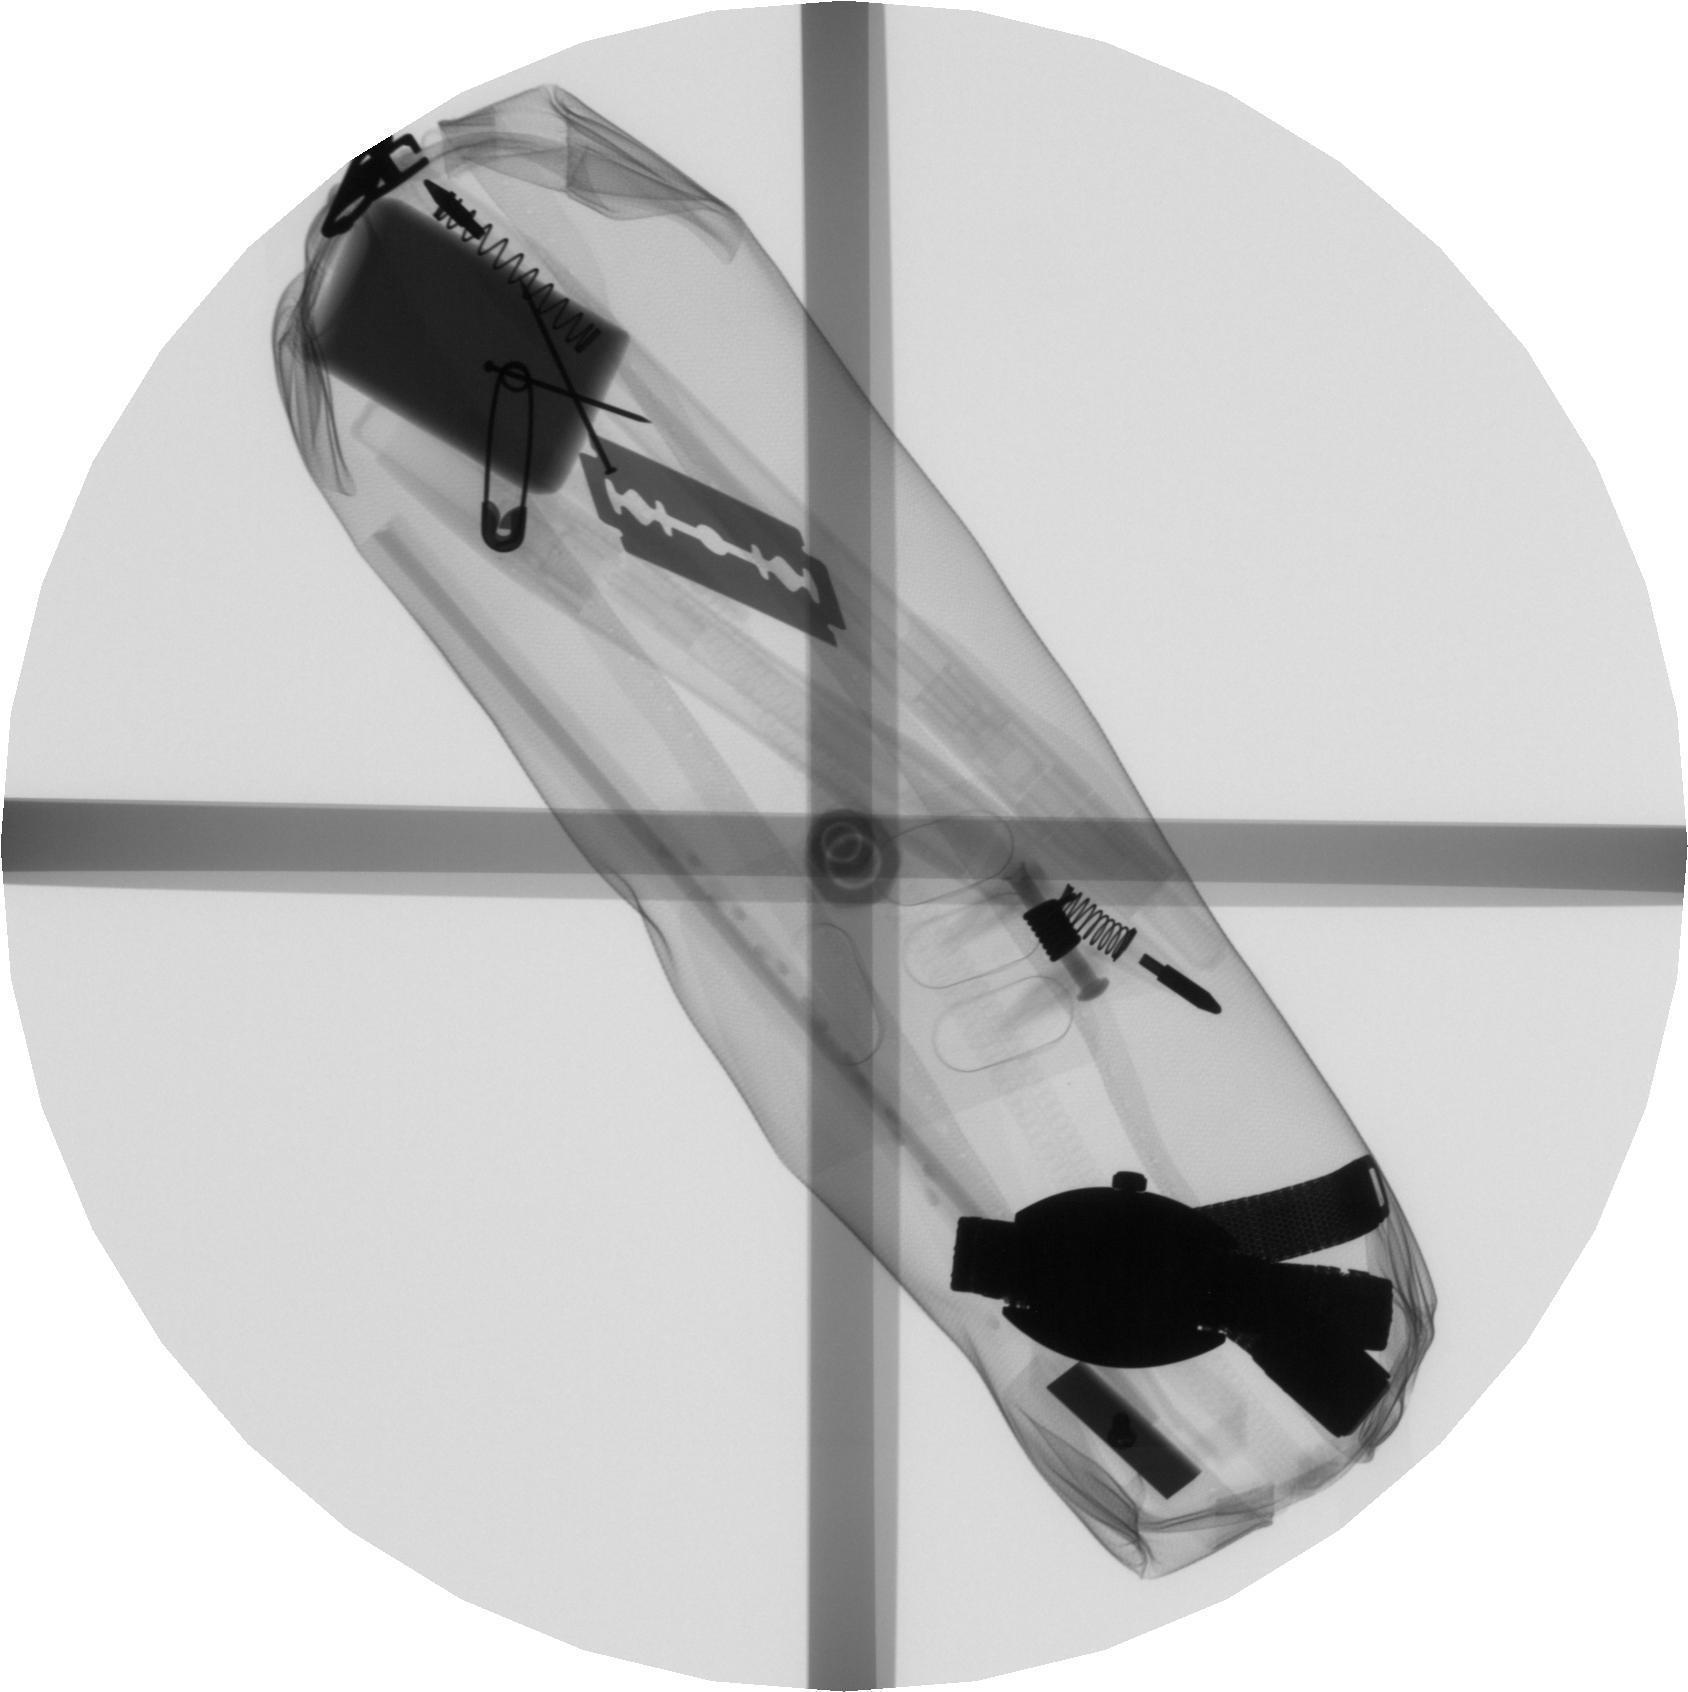RazorBlade: (566, 431, 866, 668)
